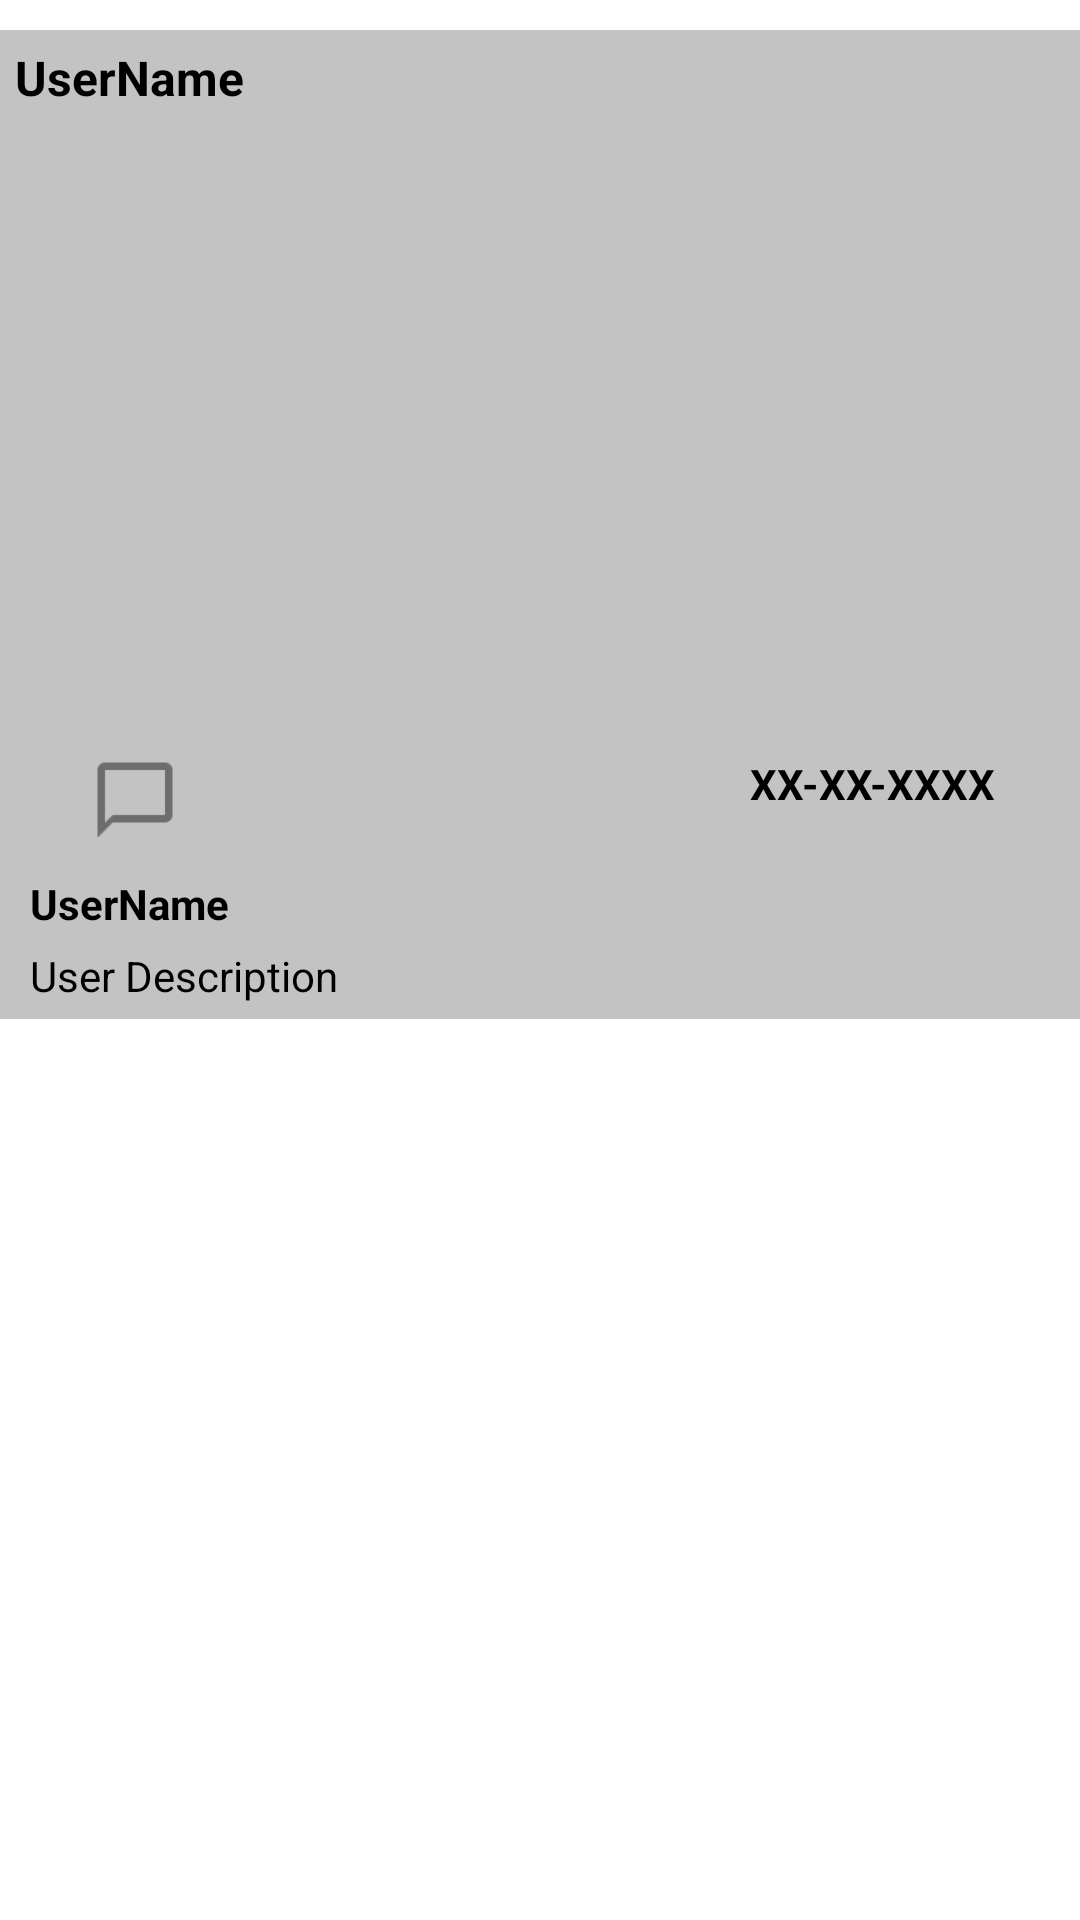

Icons on this 1080px×1920px Android screen, each with its box as (x1, y1, x2, y2):
comment: (97, 762, 173, 837)
